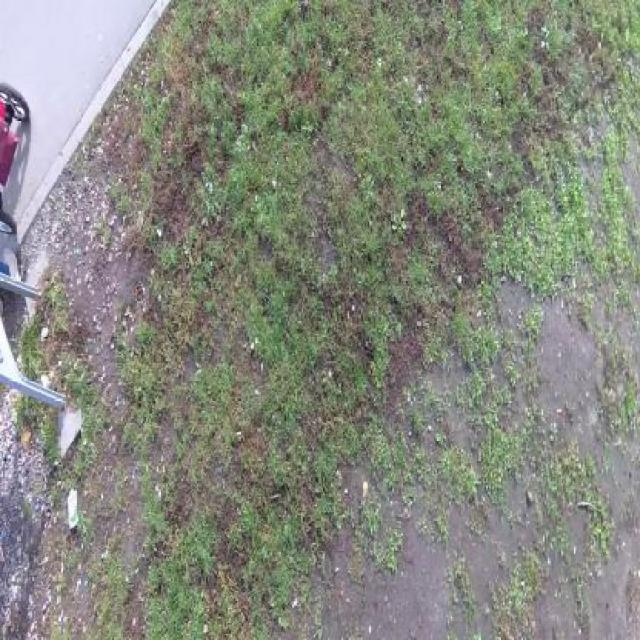Garbage: (67, 488, 79, 531)
